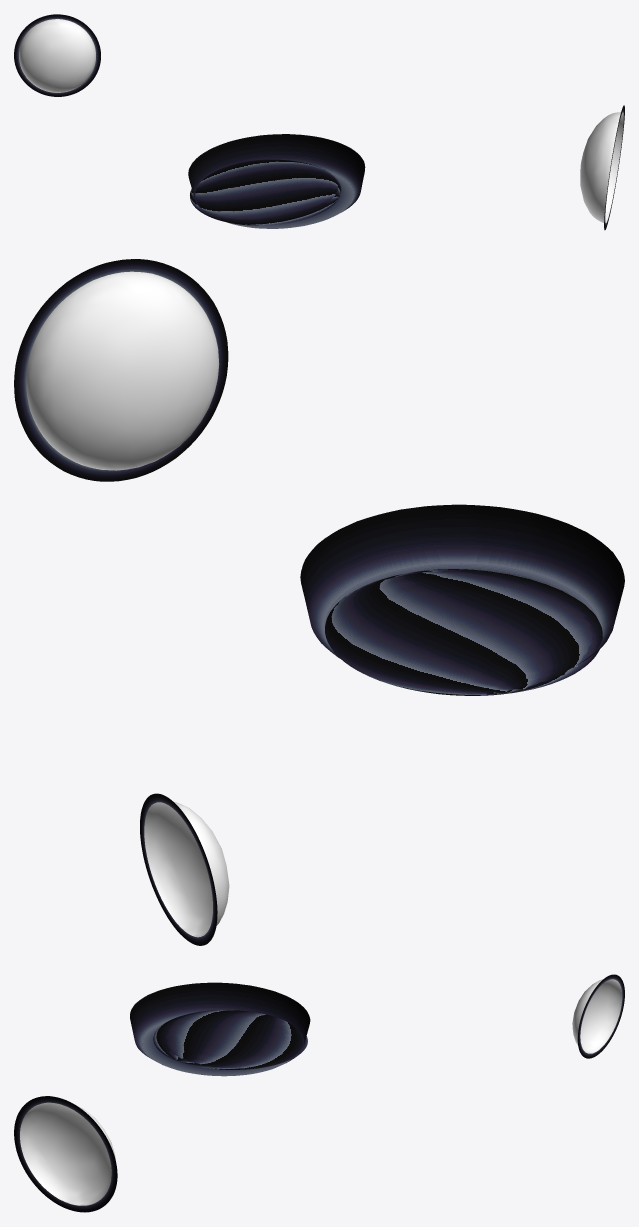
File: env_space_bespin_02_pre.glb
The picture shows the model from 3 angles, top to bottom: view 1: azimuth 30°, elevation 25°; view 2: azimuth 150°, elevation 25°; view 3: azimuth 270°, elevation 25°; orthographic projection. The views are drawn at different scales.
Visible parts, largest first — view 1: polySurface1 (×2), Bespin_planet (1), prop_planet_atmosphere_mesh, Bespin_planet; view 2: polySurface1 (×2), Bespin_planet (1), prop_planet_atmosphere_mesh, Bespin_planet; view 3: polySurface1 (×2), Bespin_planet (1), prop_planet_atmosphere_mesh, Bespin_planet.
Part boxes in pixels (x1,y1,x2,y2): polySurface1 (×2): (14,14,624,230); Bespin_planet (1): (190,159,340,225); prop_planet_atmosphere_mesh: (188,134,365,228); Bespin_planet: (190,164,341,224); polySurface1 (×2): (14,259,229,945); Bespin_planet (1): (325,570,599,695); prop_planet_atmosphere_mesh: (300,504,624,667); Bespin_planet: (325,569,602,695); polySurface1 (×2): (14,974,624,1212); Bespin_planet (1): (153,1010,307,1069); prop_planet_atmosphere_mesh: (130,982,310,1076); Bespin_planet: (153,1010,307,1069).
Bounding box in the file's own units: 532 × 156 × 742.
Materials: 5 (4 with a texture image).
